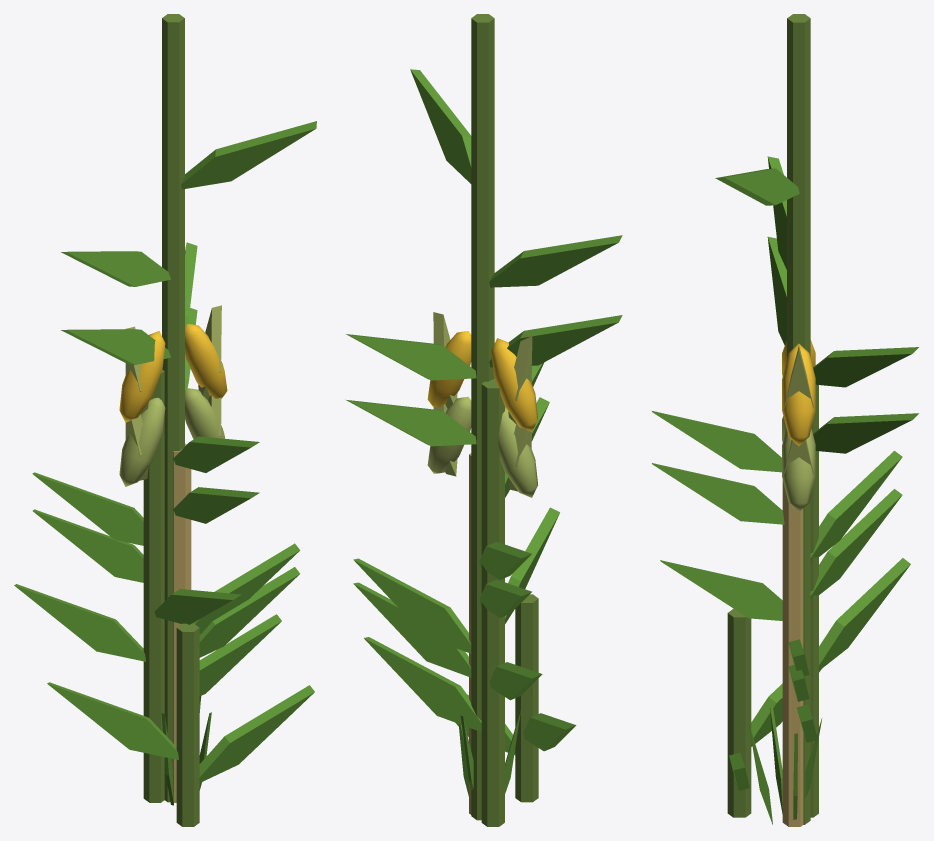
The model's file is Crop_Grain_Corn.fbx.
The picture shows the model from 3 angles, left to right: view 1: azimuth 30°, elevation 25°; view 2: azimuth 150°, elevation 25°; view 3: azimuth 270°, elevation 25°; orthographic projection. The views are drawn at different scales.
Visible parts, largest first — view 1: Crop_Grain_Corn__S4, Crop_Grain_Corn__S3, Crop_Grain_Corn__S2, Crop_Grain_Corn__S1, Crop_Grain_Corn__S5; view 2: Crop_Grain_Corn__S4, Crop_Grain_Corn__S3, Crop_Grain_Corn__S2, Crop_Grain_Corn__S1, Crop_Grain_Corn__S5; view 3: Crop_Grain_Corn__S4, Crop_Grain_Corn__S3, Crop_Grain_Corn__S2, Crop_Grain_Corn__S5, Crop_Grain_Corn__S1.
Part boxes in pixels (box(x1,y1,x2,y2)): Crop_Grain_Corn__S4: box(32, 14, 316, 801); Crop_Grain_Corn__S3: box(32, 135, 300, 802); Crop_Grain_Corn__S2: box(14, 369, 281, 802); Crop_Grain_Corn__S1: box(47, 623, 314, 826); Crop_Grain_Corn__S5: box(161, 443, 211, 805); Crop_Grain_Corn__S4: box(346, 14, 622, 819); Crop_Grain_Corn__S3: box(345, 138, 622, 820); Crop_Grain_Corn__S2: box(364, 379, 559, 826); Crop_Grain_Corn__S1: box(455, 594, 576, 802); Crop_Grain_Corn__S5: box(458, 453, 520, 814); Crop_Grain_Corn__S4: box(652, 14, 918, 824); Crop_Grain_Corn__S3: box(652, 139, 918, 824); Crop_Grain_Corn__S2: box(660, 384, 910, 817); Crop_Grain_Corn__S5: box(749, 480, 822, 826); Crop_Grain_Corn__S1: box(727, 608, 821, 817).
Size of the model in its own units: 0.1991 by 0.6 by 0.1816.
